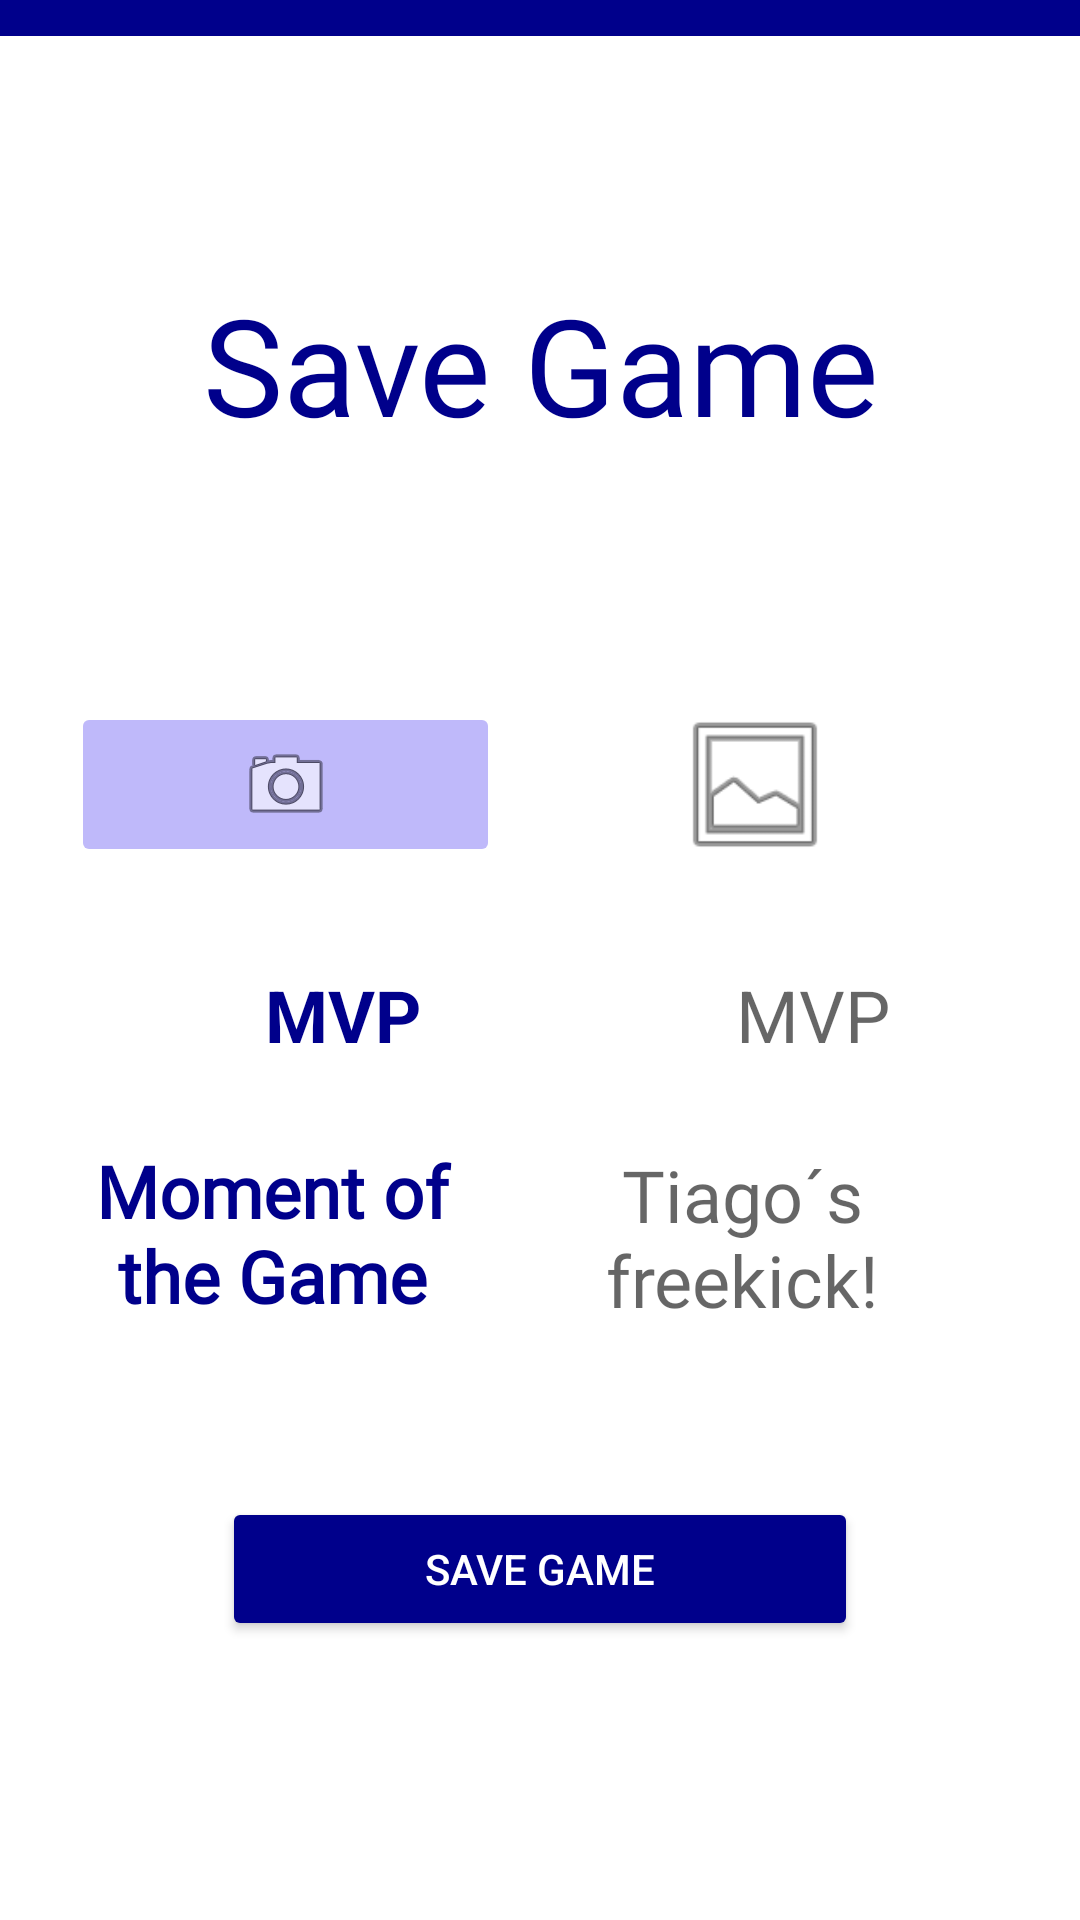

Screen size 1080 × 1920. Icon name, then its center in pixels as [x,y]:
gallery: [755,784]
